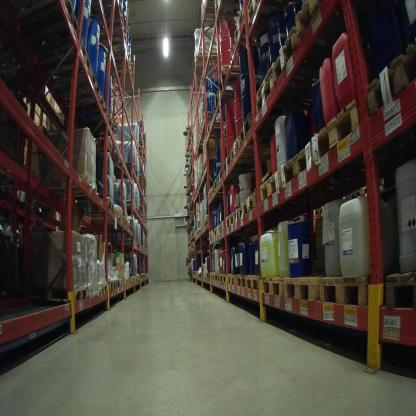pallet: (4, 1, 83, 62), (365, 30, 416, 119), (271, 24, 338, 84), (312, 96, 360, 170), (24, 41, 91, 83), (47, 67, 99, 109), (239, 111, 293, 148), (317, 271, 375, 305), (24, 276, 89, 306), (281, 136, 316, 190), (384, 262, 415, 315), (289, 1, 338, 33), (40, 173, 95, 201), (256, 79, 300, 113), (66, 85, 107, 121), (72, 110, 116, 140), (285, 273, 326, 302), (94, 28, 131, 59), (88, 4, 128, 32), (256, 163, 282, 204), (100, 51, 136, 78), (224, 135, 261, 159), (214, 62, 241, 91), (255, 59, 274, 97), (214, 166, 244, 188), (114, 160, 141, 184), (219, 154, 249, 175), (261, 270, 288, 293), (211, 90, 238, 113), (199, 1, 222, 25), (195, 47, 217, 71), (246, 2, 264, 29), (232, 5, 245, 40), (88, 217, 129, 228), (211, 178, 238, 194), (244, 191, 259, 219), (83, 199, 115, 212), (244, 270, 263, 291), (206, 186, 234, 200), (88, 212, 123, 222), (110, 238, 139, 249), (201, 109, 217, 128), (200, 170, 223, 183), (225, 206, 236, 233), (207, 122, 227, 136), (203, 158, 220, 174), (235, 201, 244, 227), (87, 280, 100, 298), (98, 277, 109, 297), (236, 271, 247, 290), (192, 187, 208, 199), (199, 119, 211, 135), (122, 198, 136, 211), (197, 135, 211, 148), (197, 177, 212, 189), (227, 271, 238, 287), (185, 126, 196, 141), (196, 144, 206, 158), (219, 271, 228, 285), (136, 138, 145, 152), (219, 217, 225, 237), (245, 2, 255, 13), (109, 280, 116, 295), (203, 217, 210, 231), (209, 228, 215, 244), (140, 151, 149, 161), (118, 278, 125, 289), (214, 219, 218, 238), (115, 276, 120, 291), (131, 273, 137, 284), (214, 272, 220, 282), (123, 275, 129, 285), (210, 272, 216, 281), (128, 276, 132, 285)
